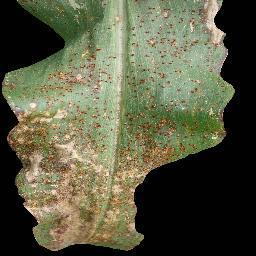Corn_Common_Rust: (0, 0, 143, 253), (143, 0, 237, 148)
